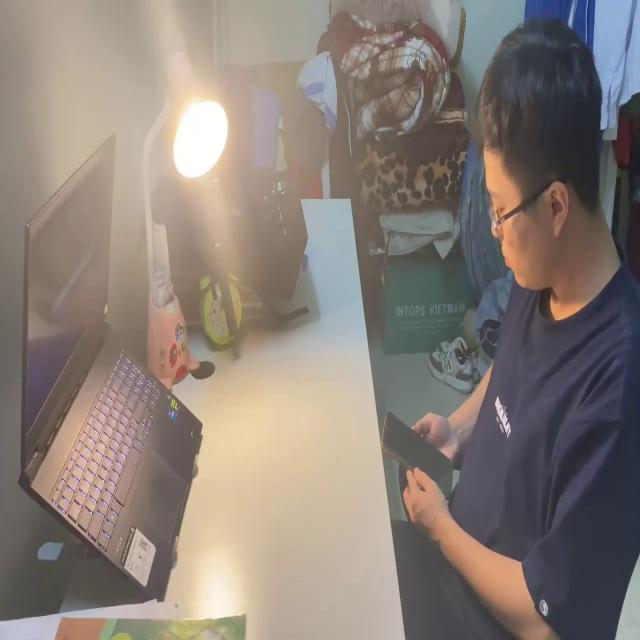book: (0, 588, 252, 640)
laptop: (18, 130, 204, 596)
phone: (379, 402, 460, 502)
student: (401, 18, 640, 640)
